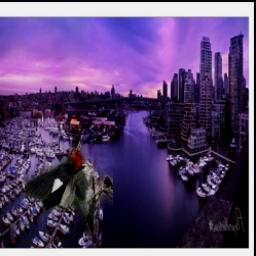Woodpecker: (25, 139, 113, 235)
